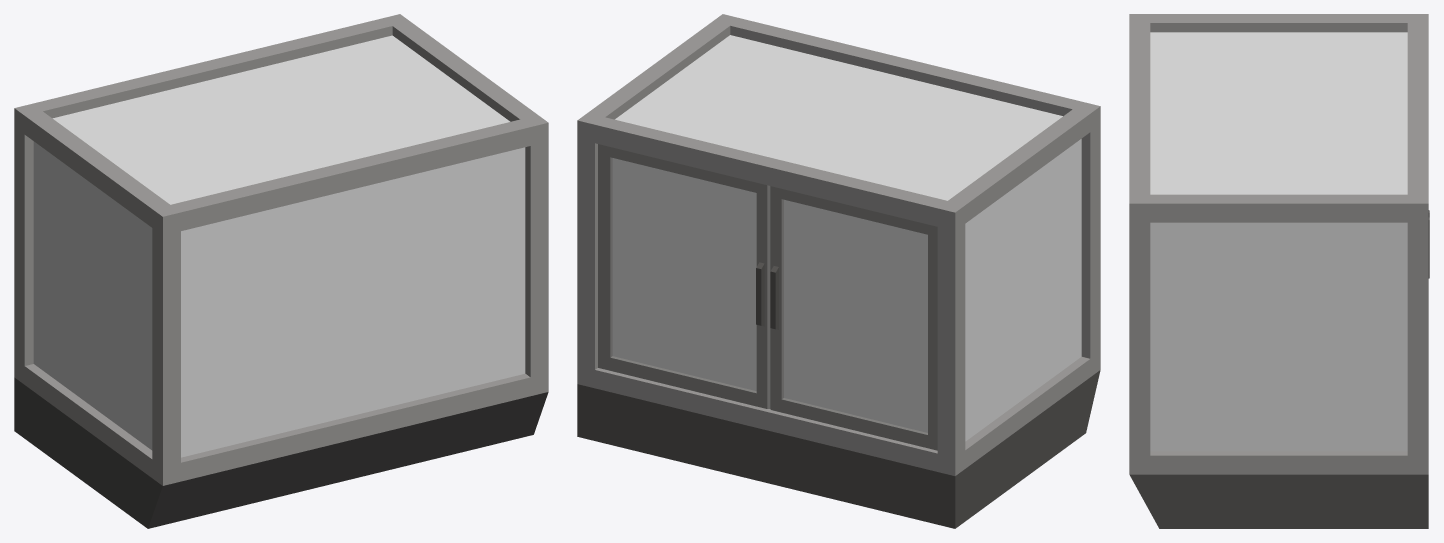
The model's file is SM_Props_Interior_SuperMarket_Display_Mini_Preset_03.fbx.
3 views of the same model, side by side, from view 1: azimuth 30°, elevation 25°; view 2: azimuth 150°, elevation 25°; view 3: azimuth 270°, elevation 25° (orthographic). The views are drawn at different scales.
Parts seen in each view (by area): view 1: SM_Props_Interior_SuperMarket_Display_Mini_Preset_03; view 2: SM_Props_Interior_SuperMarket_Display_Mini_Preset_03; view 3: SM_Props_Interior_SuperMarket_Display_Mini_Preset_03.
Part boxes in pixels (<box>): SM_Props_Interior_SuperMarket_Display_Mini_Preset_03: <box>14,14,548,528</box>; SM_Props_Interior_SuperMarket_Display_Mini_Preset_03: <box>577,14,1100,528</box>; SM_Props_Interior_SuperMarket_Display_Mini_Preset_03: <box>1129,14,1429,528</box>.
Size of the model in its own units: 75 by 60 by 50.14.
